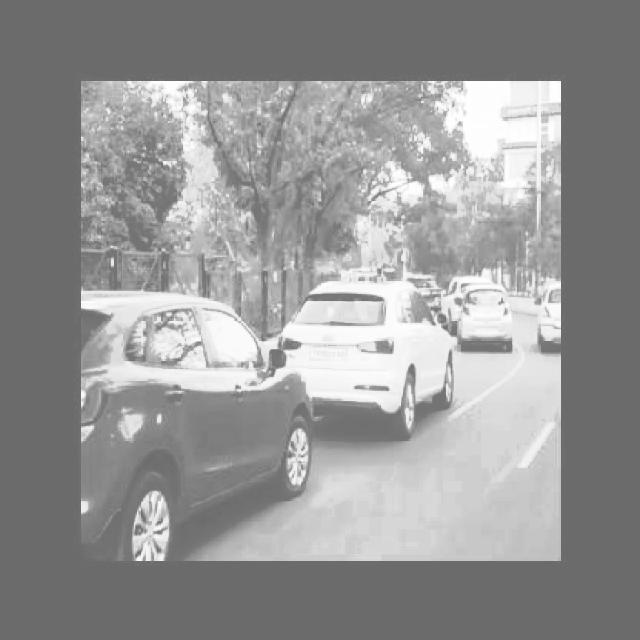Car: (80, 282, 311, 554), (302, 278, 454, 426), (449, 285, 519, 357), (537, 282, 563, 362)
